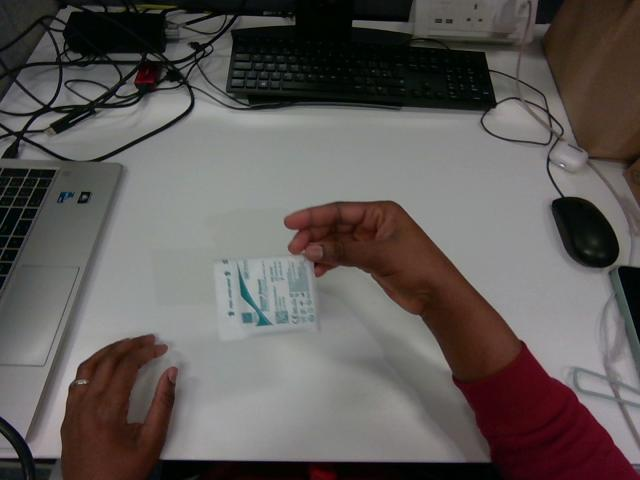gauze: (214, 255, 318, 340)
